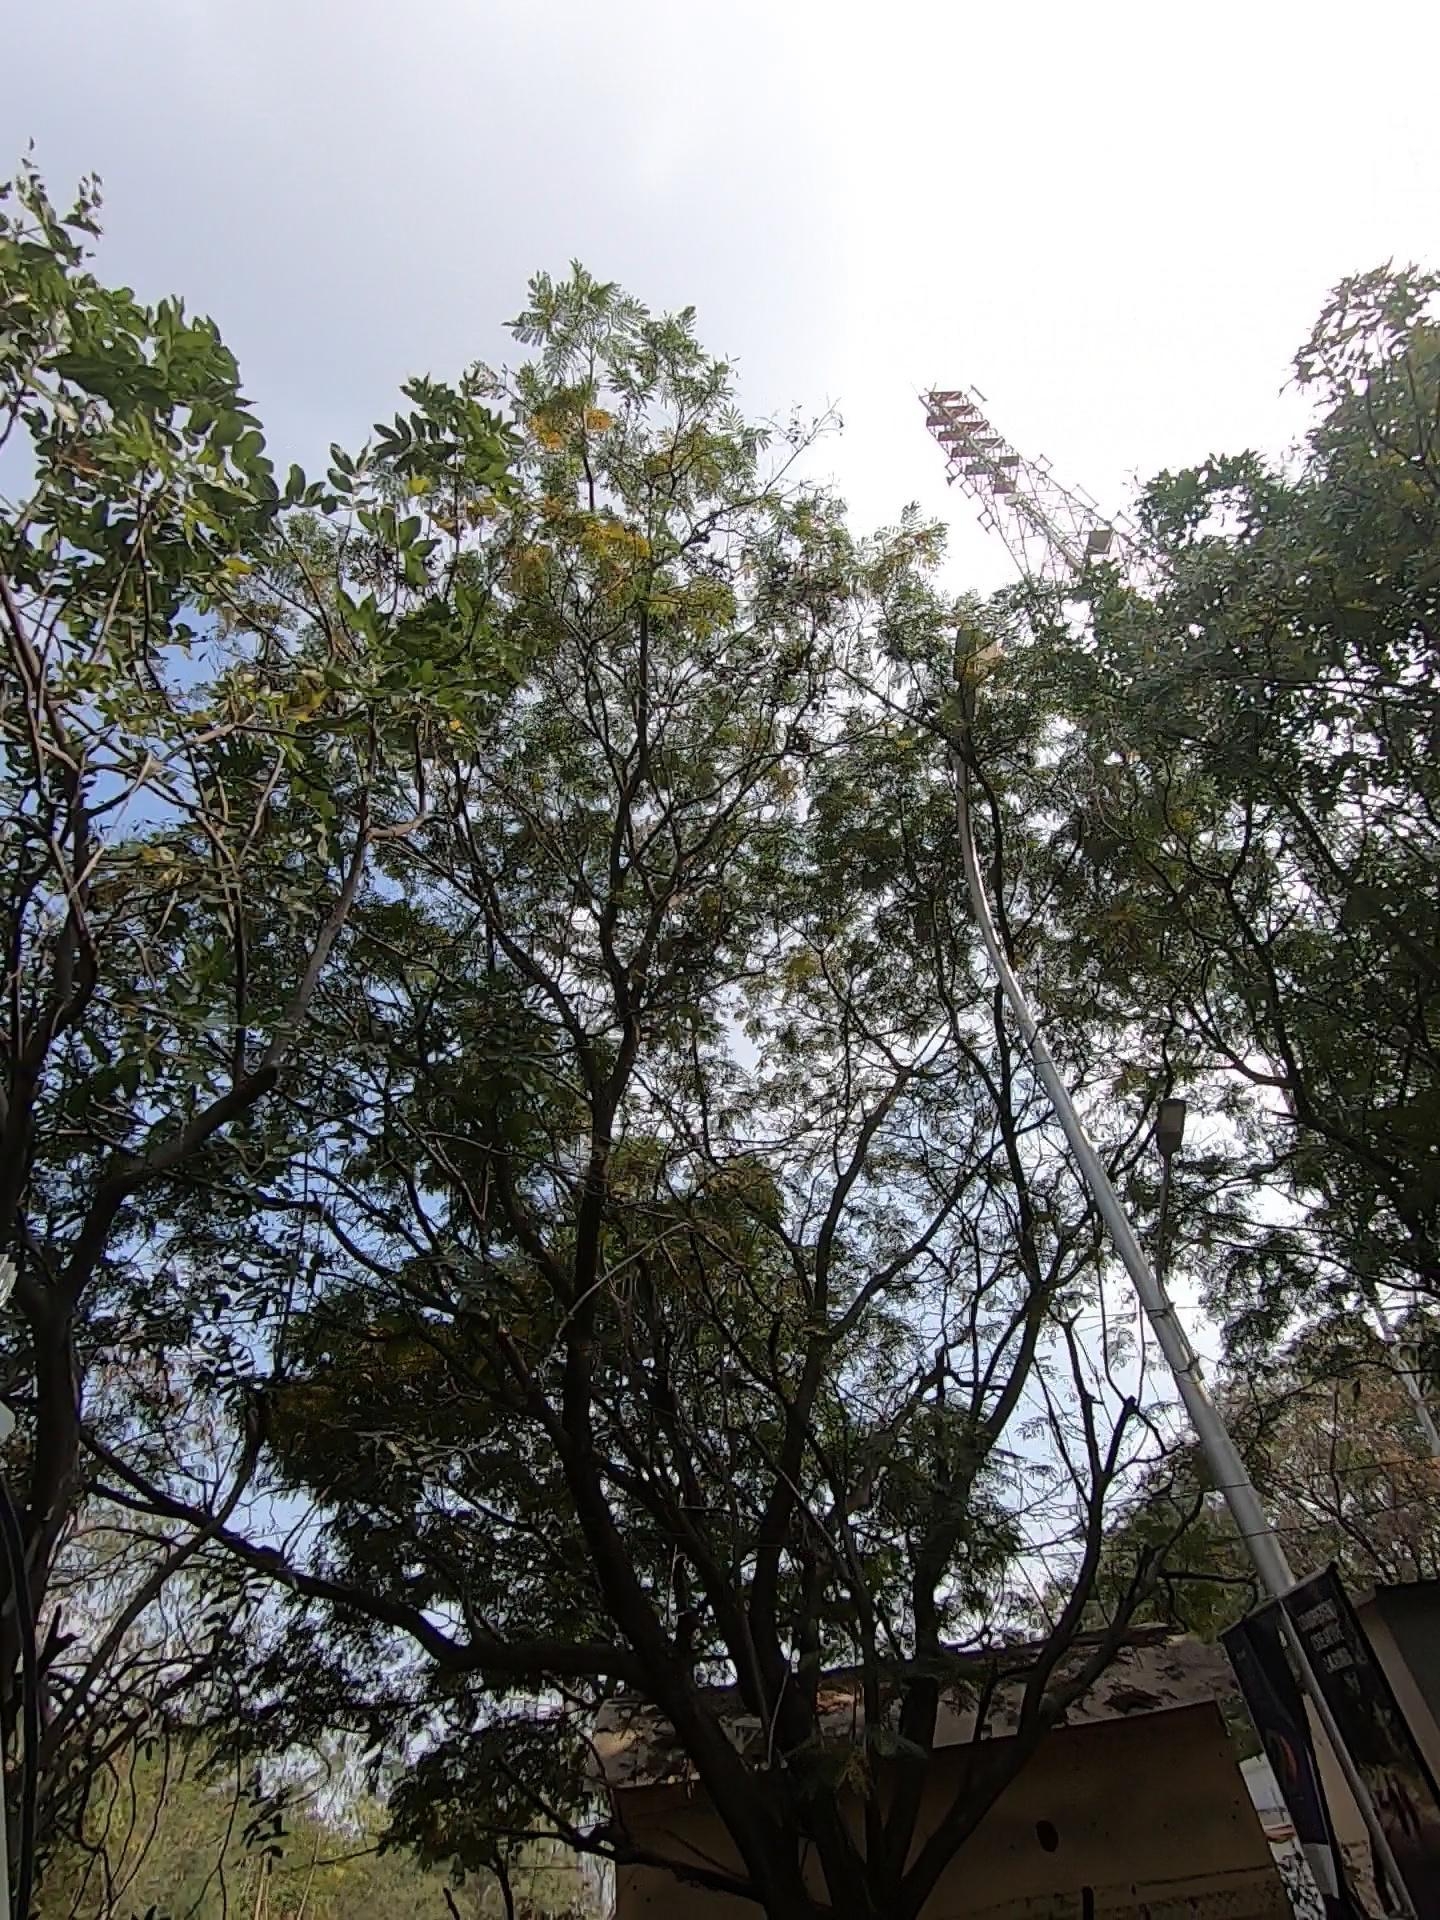off: (917, 644, 1059, 806)
